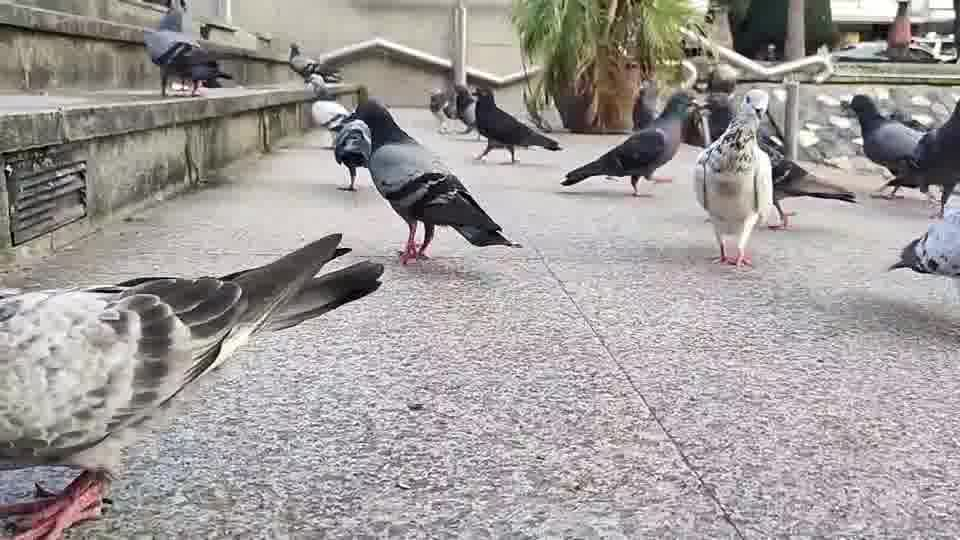Pigeon: (0, 231, 384, 538), (327, 96, 523, 265), (559, 91, 694, 197), (692, 95, 774, 269), (839, 92, 930, 200), (757, 134, 858, 229), (880, 98, 959, 217), (141, 0, 232, 97), (465, 85, 564, 164), (887, 206, 959, 279), (331, 118, 372, 191), (426, 82, 477, 135), (287, 40, 343, 86)
